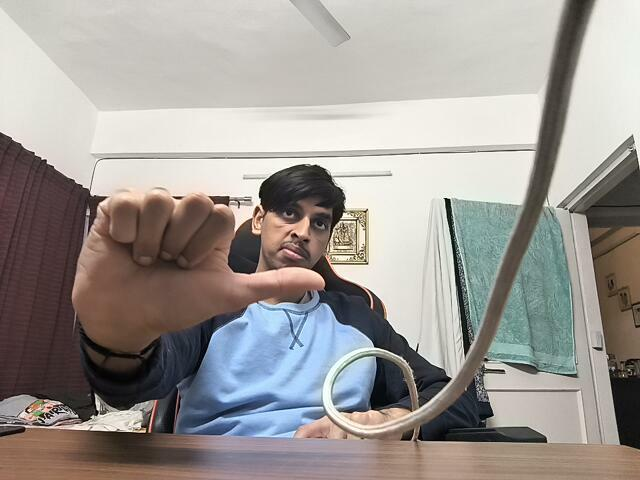LEFT: (64, 182, 329, 343)
